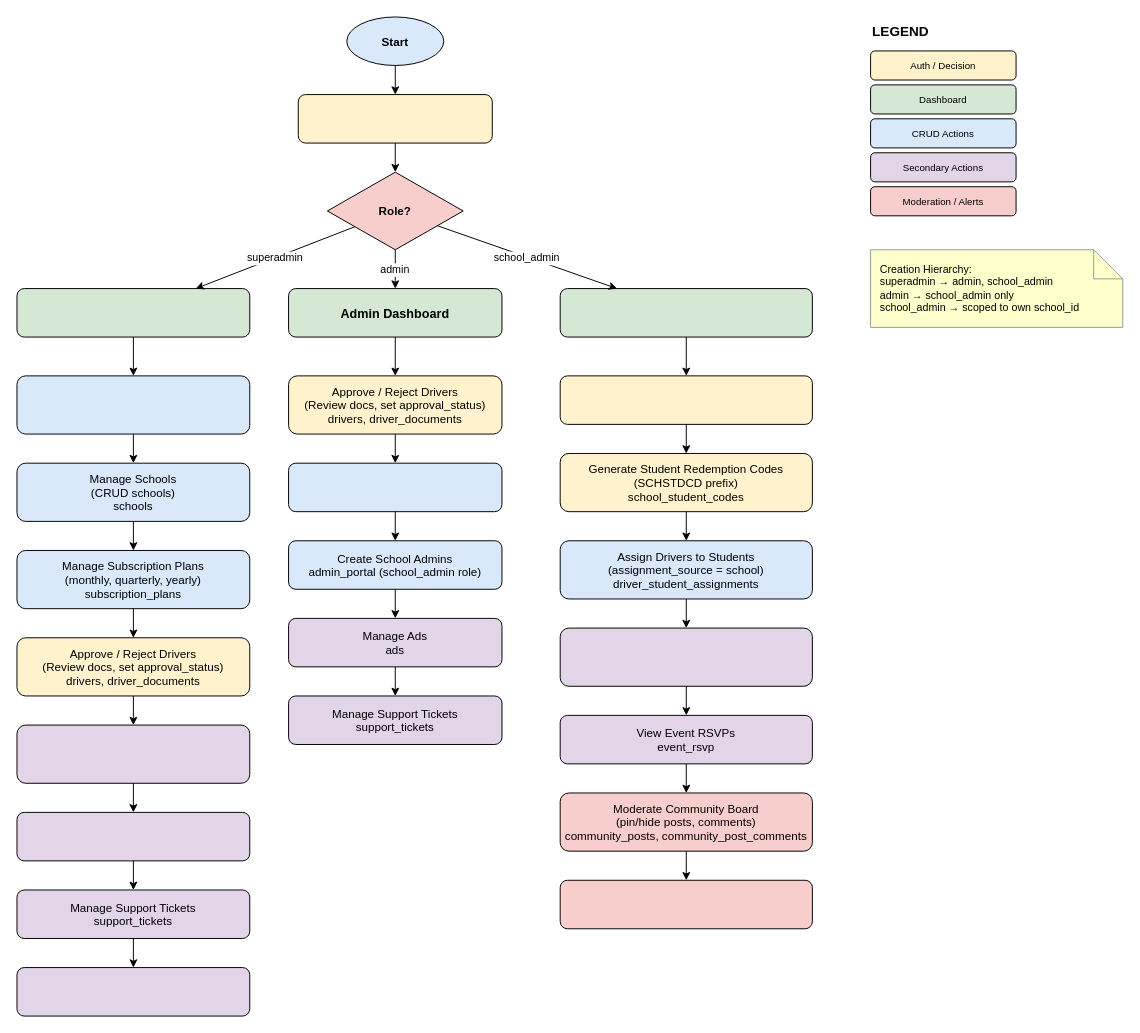
This 1140x1033 diagram has some shape labels left out. Each missing label, with the centre of its shape:
Admin Login (admin_portal): (394,118)
Assign User Roles roles, user_roles: (133,991)
Create School Events (sports, holiday, exam, etc.) school_events: (685,656)
Manage Admins (Create admin, school_admin) admin_portal: (133,404)
Manage Ads (banner, interstitial, native_card) ads, ad_interactions: (133,753)
Manage School Subscription school_subscriptions: (685,399)
Manage Schools schools: (395,487)
School Admin Dashboard (school_id scoped): (685,312)
Send Notifications to Parents notifications: (685,904)
Super Admin Dashboard: (133,312)
View Audit Logs audit_logs: (133,836)
